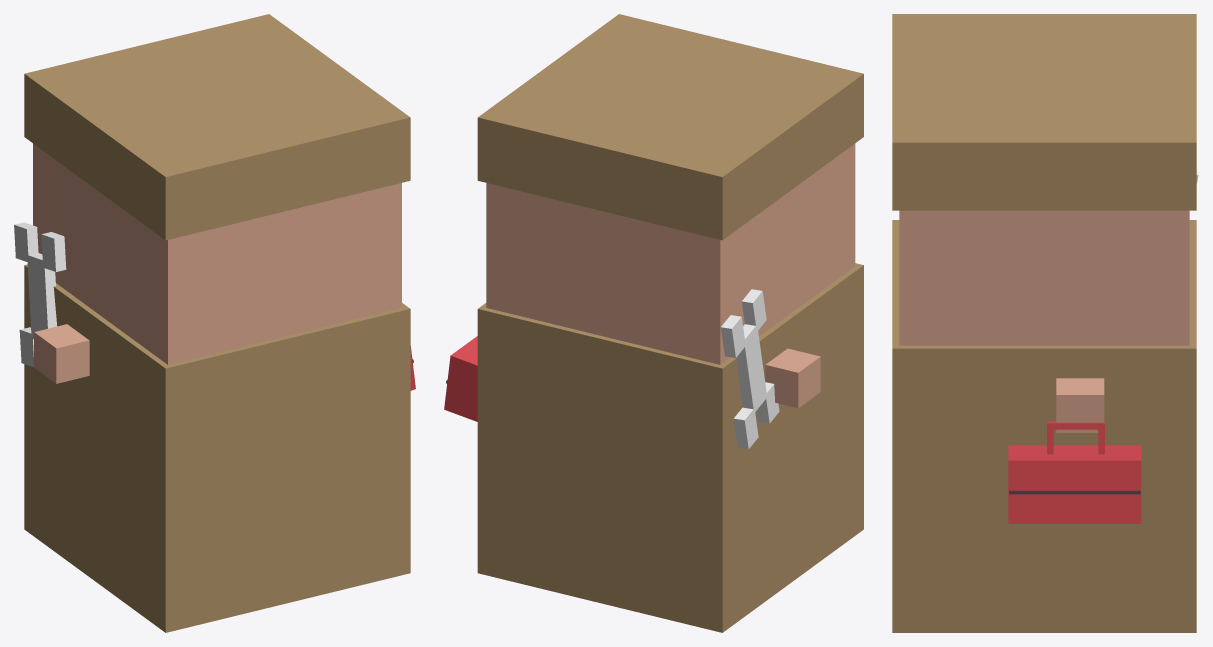
File: doonEngineer.gltf
3 views of the same model, side by side, from view 1: azimuth 30°, elevation 25°; view 2: azimuth 150°, elevation 25°; view 3: azimuth 270°, elevation 25° (orthographic). The views are drawn at different scales.
Parts seen in each view (by area): view 1: Cube.003, Cube.001, Cube, Cube.002, Cube.007, Cube.004, Cube.005, Cube.006; view 2: Cube.003, Cube.001, Cube, Cube.002, Cube.007, Cube.011, Cube.004, Cube.006, Cube.009, Cube.005; view 3: Cube.003, Cube.002, Cube.001, Cube, Cube.011, Cube.008, Cube.015.
Part boxes in pixels (x1=…): Cube.003: x1=24, y1=14, x2=410, y2=240; Cube.001: x1=24, y1=397, x2=410, y2=632; Cube: x1=24, y1=264, x2=410, y2=500; Cube.002: x1=33, y1=143, x2=401, y2=364; Cube.007: x1=34, y1=324, x2=89, y2=383; Cube.004: x1=27, y1=253, x2=57, y2=338; Cube.005: x1=41, y1=232, x2=66, y2=271; Cube.006: x1=14, y1=222, x2=38, y2=262; Cube.003: x1=477, y1=14, x2=863, y2=240; Cube.001: x1=477, y1=397, x2=863, y2=632; Cube: x1=477, y1=263, x2=863, y2=500; Cube.002: x1=486, y1=143, x2=855, y2=364; Cube.007: x1=765, y1=348, x2=820, y2=408; Cube.011: x1=444, y1=336, x2=477, y2=421; Cube.004: x1=735, y1=324, x2=767, y2=412; Cube.006: x1=721, y1=315, x2=745, y2=357; Cube.009: x1=733, y1=407, x2=758, y2=449; Cube.005: x1=741, y1=289, x2=766, y2=330; Cube.003: x1=892, y1=14, x2=1196, y2=210; Cube.002: x1=899, y1=210, x2=1189, y2=345; Cube.001: x1=892, y1=490, x2=1196, y2=632; Cube: x1=892, y1=220, x2=1196, y2=490; Cube.011: x1=1008, y1=445, x2=1141, y2=523; Cube.008: x1=1056, y1=378, x2=1104, y2=432; Cube.015: x1=1009, y1=490, x2=1140, y2=494.
Bounding box in the file's own units: 1.26 × 1.63 × 0.921.
